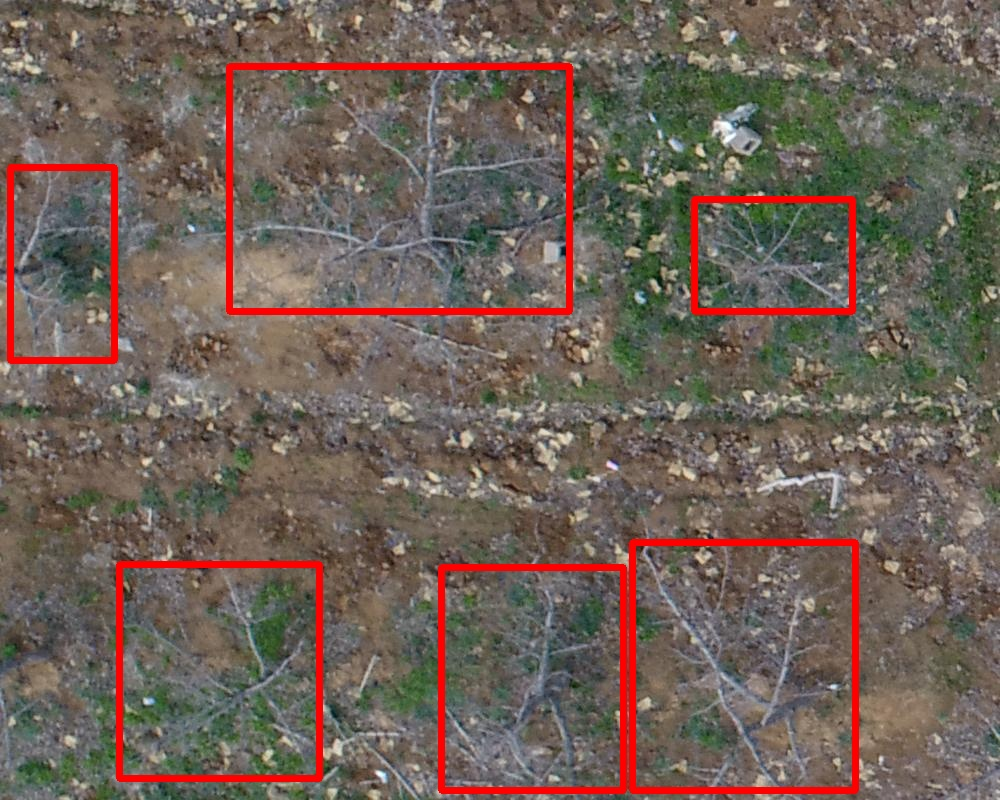apple: (229, 66, 569, 311), (632, 542, 855, 790), (119, 564, 319, 778), (441, 567, 623, 790), (10, 167, 114, 360), (694, 199, 852, 311)
